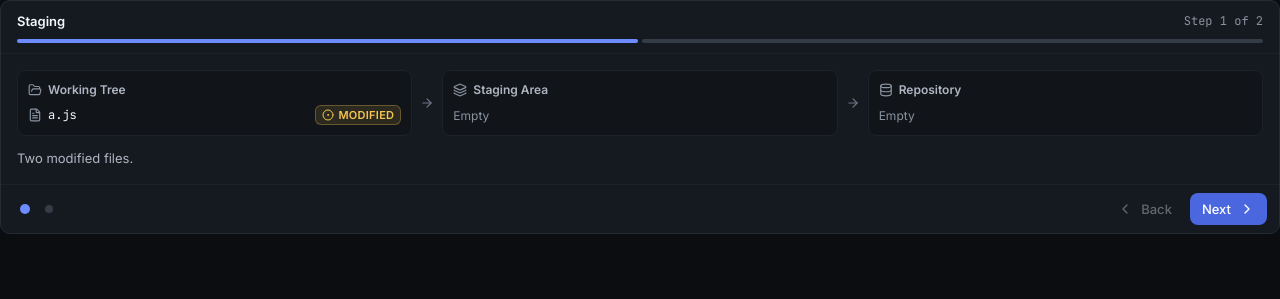
Scenario: DemoPlayer › steps forward and back, then offers a replay
The image size is (1280, 299).
Expected: the text with test id "demo-step" reads "Step 1 of 2", x1=1184 y1=12 x2=1263 y2=30
Expected: the button "Back" is disabled, x1=1105 y1=193 x2=1184 y2=225
What coordinates should you click on to do the following:
click the button "Next"
I would click on:
 (1228, 209)
Its box is x1=1190 y1=193 x2=1267 y2=225.
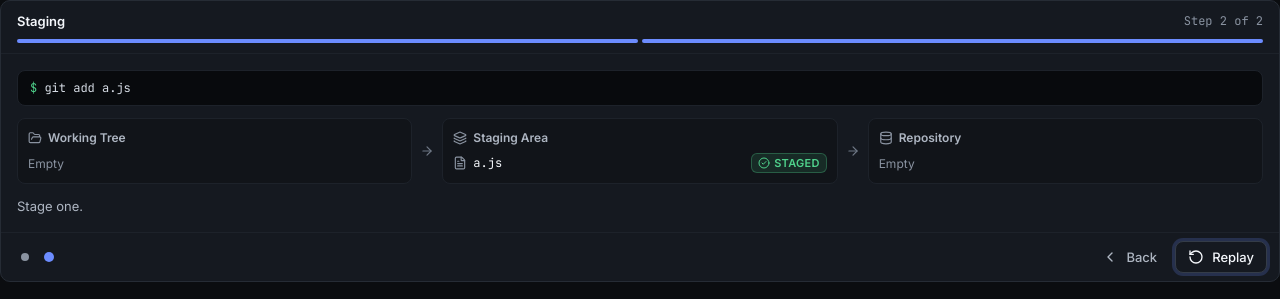
Expected: the text "a.js" is shown, x1=473 y1=154 x2=502 y2=172
Result: the text with test id "demo-step" reads "Step 2 of 2" at x1=1184 y1=12 x2=1263 y2=30
Result: the text "git add a.js" is shown at x1=44 y1=80 x2=131 y2=96
What coordinates should you click on to do the following:
click the button "Replay"
I would click on:
 (1221, 257)
Its box is x1=1175 y1=241 x2=1267 y2=273.
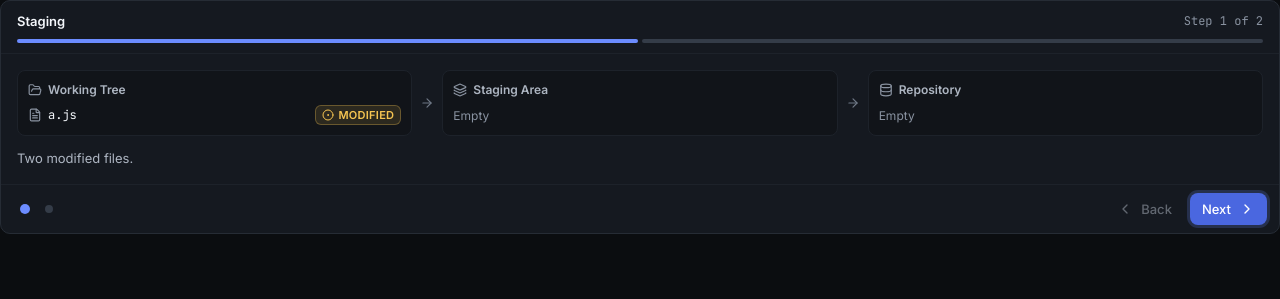
Result: the text with test id "demo-step" reads "Step 1 of 2" at x1=1184 y1=12 x2=1263 y2=30
What coordinates should you click on to do the following:
click the button named "Go to step 2"
I would click on:
 (49, 209)
Its box is x1=37 y1=197 x2=61 y2=221.
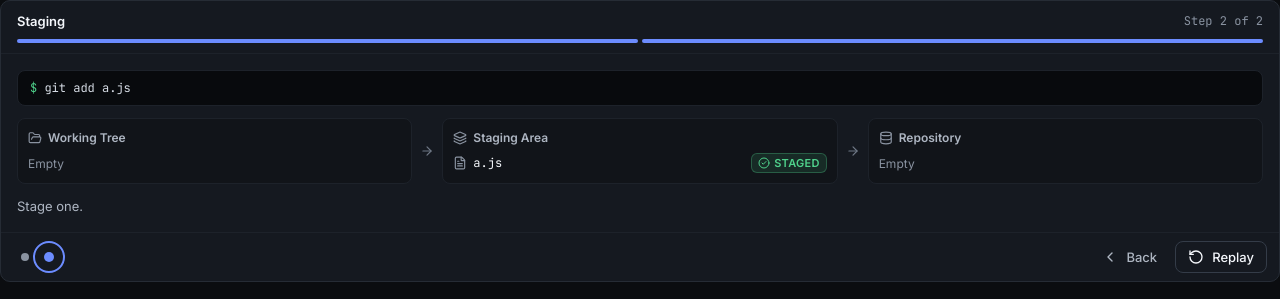
Result: the text "Stage one." is shown at x1=17 y1=198 x2=83 y2=214
